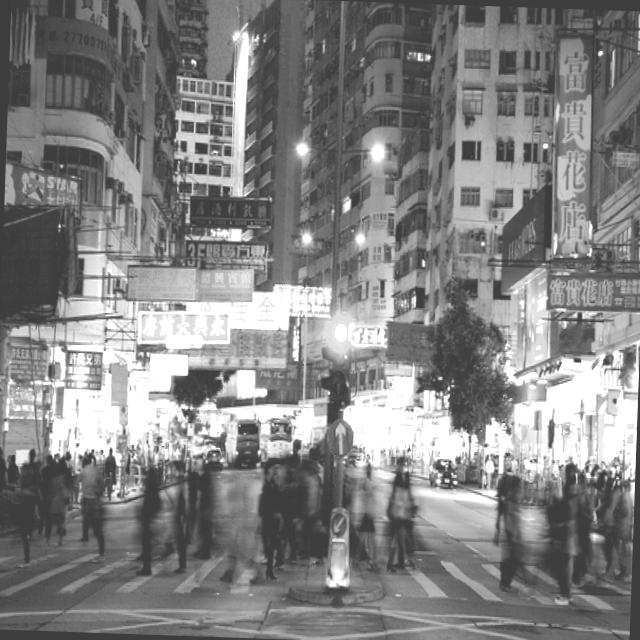Vehicle: (428, 457, 459, 488), (205, 446, 224, 471), (191, 447, 207, 471)
